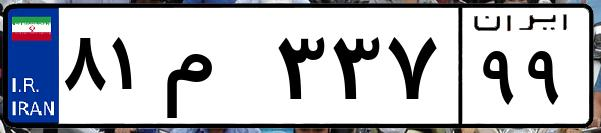1: (110, 28, 158, 98)
3: (270, 28, 330, 110), (330, 28, 385, 110)
7: (385, 28, 445, 110)
8: (57, 26, 110, 100)
9: (475, 38, 525, 113), (525, 38, 570, 115)
م: (158, 20, 270, 120)
